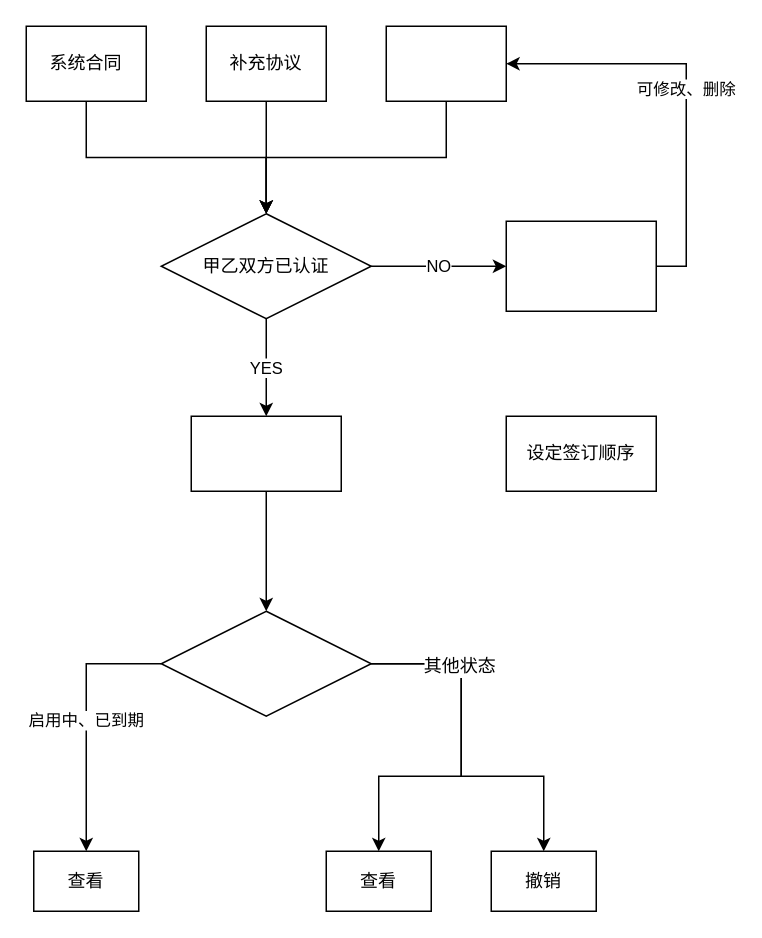
Some shapes in this 762 by 938 pixel diagram are drawn without their labels. Here are the shapes that lost their labels. From the top down, the centre of each, then its label:
the point at 445,63: 导入合同
the point at 580,265: 不可生成电子合同
the point at 265,453: 生成电子合同
the point at 265,663: 合同签订状态
